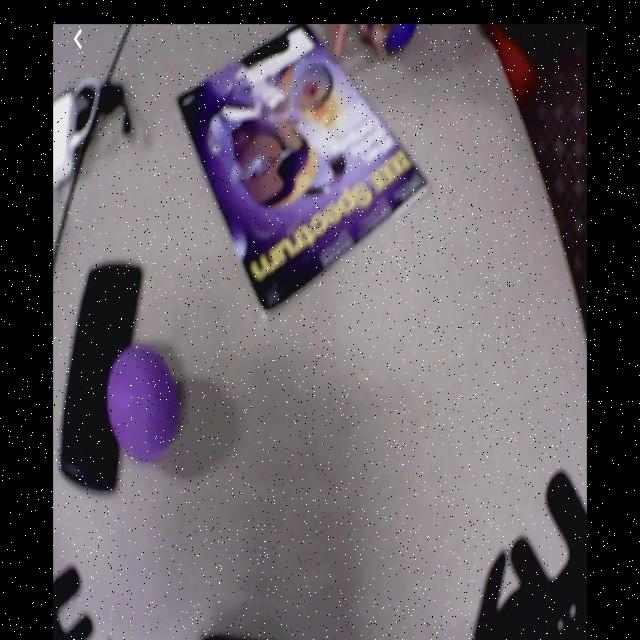ball: (107, 346, 181, 460)
